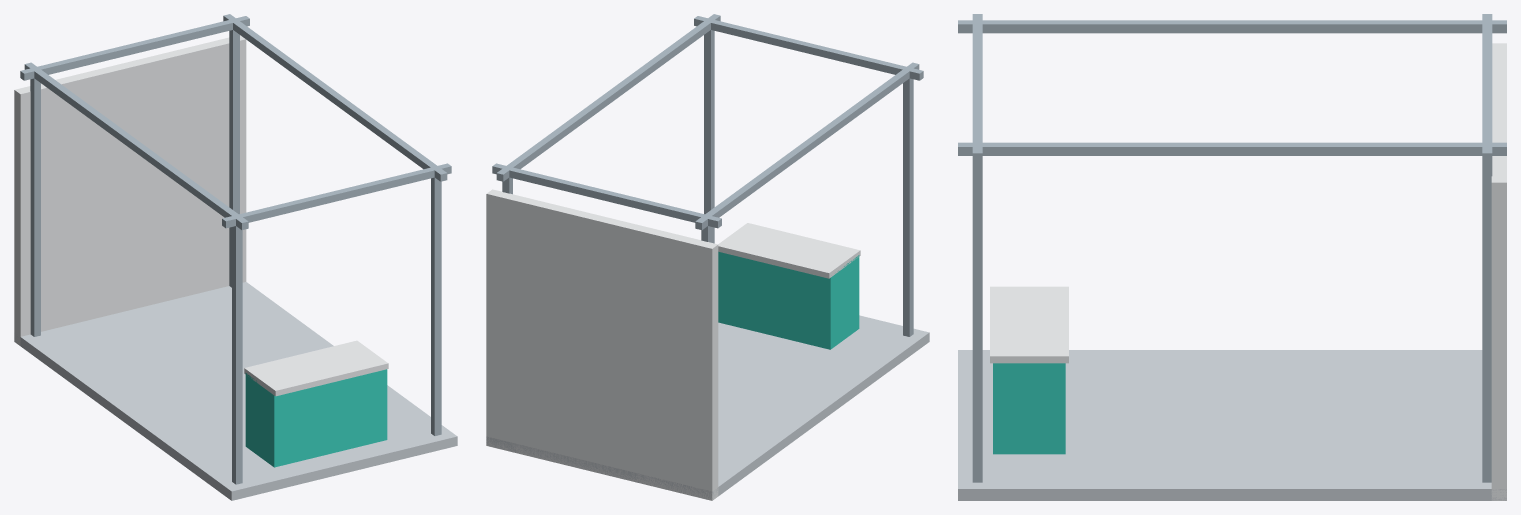
The picture shows the model from 3 angles, left to right: view 1: azimuth 30°, elevation 25°; view 2: azimuth 150°, elevation 25°; view 3: azimuth 270°, elevation 25°; orthographic projection. The views are drawn at different scales.
Visible parts, largest first — view 1: Exhibition Booth Concept; view 2: Exhibition Booth Concept; view 3: Exhibition Booth Concept.
Part boxes in pixels (x1=…): Exhibition Booth Concept: x1=14, y1=14, x2=457, y2=500; Exhibition Booth Concept: x1=486, y1=14, x2=929, y2=500; Exhibition Booth Concept: x1=958, y1=14, x2=1506, y2=500.
Size of the model in its own units: 3 by 3.49 by 5.
